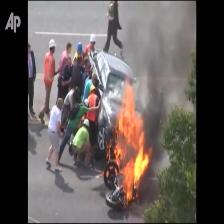smoke: (131, 22, 184, 106), (112, 108, 146, 188)
